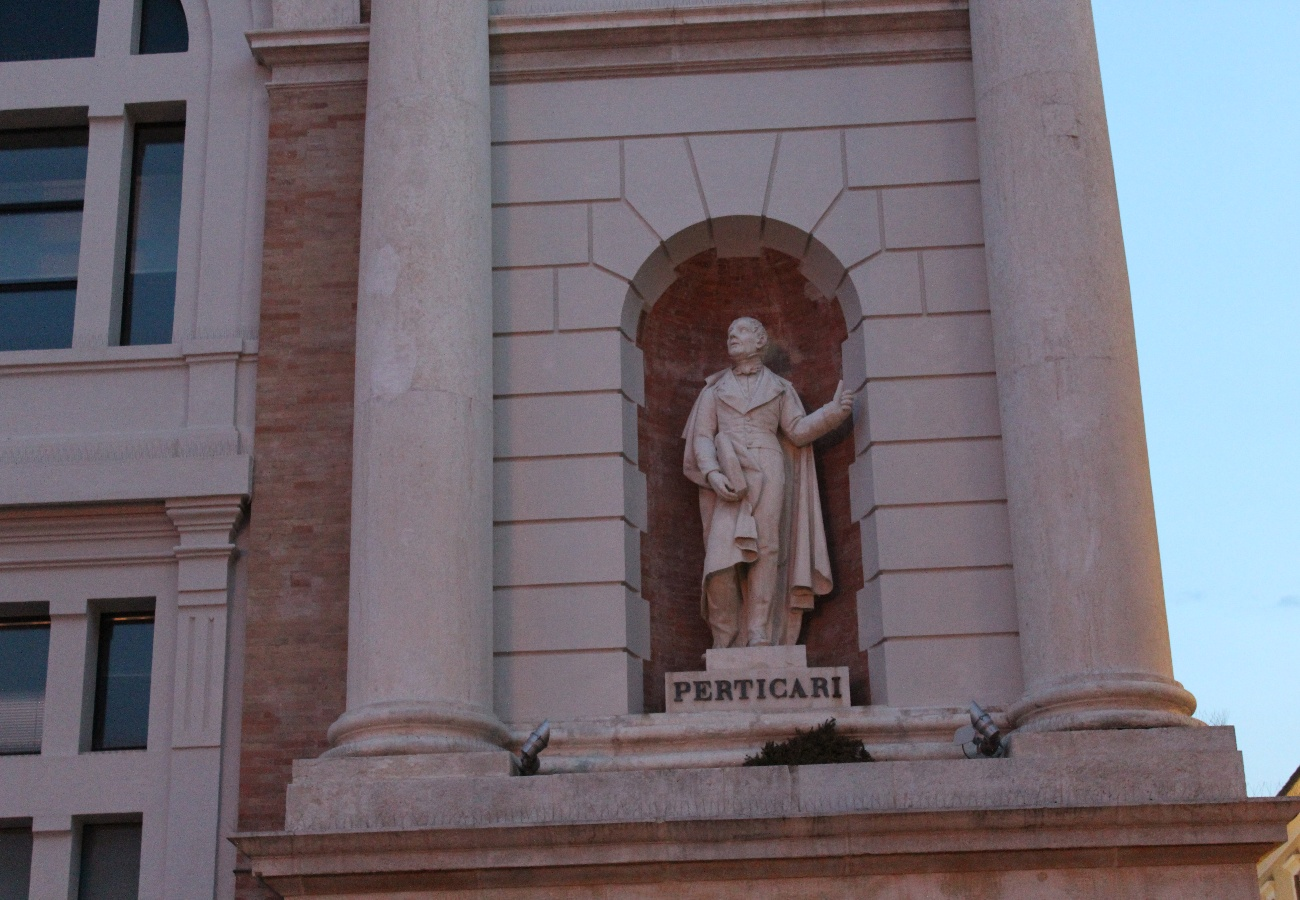Giulio Perticari: (612, 221, 887, 721)
